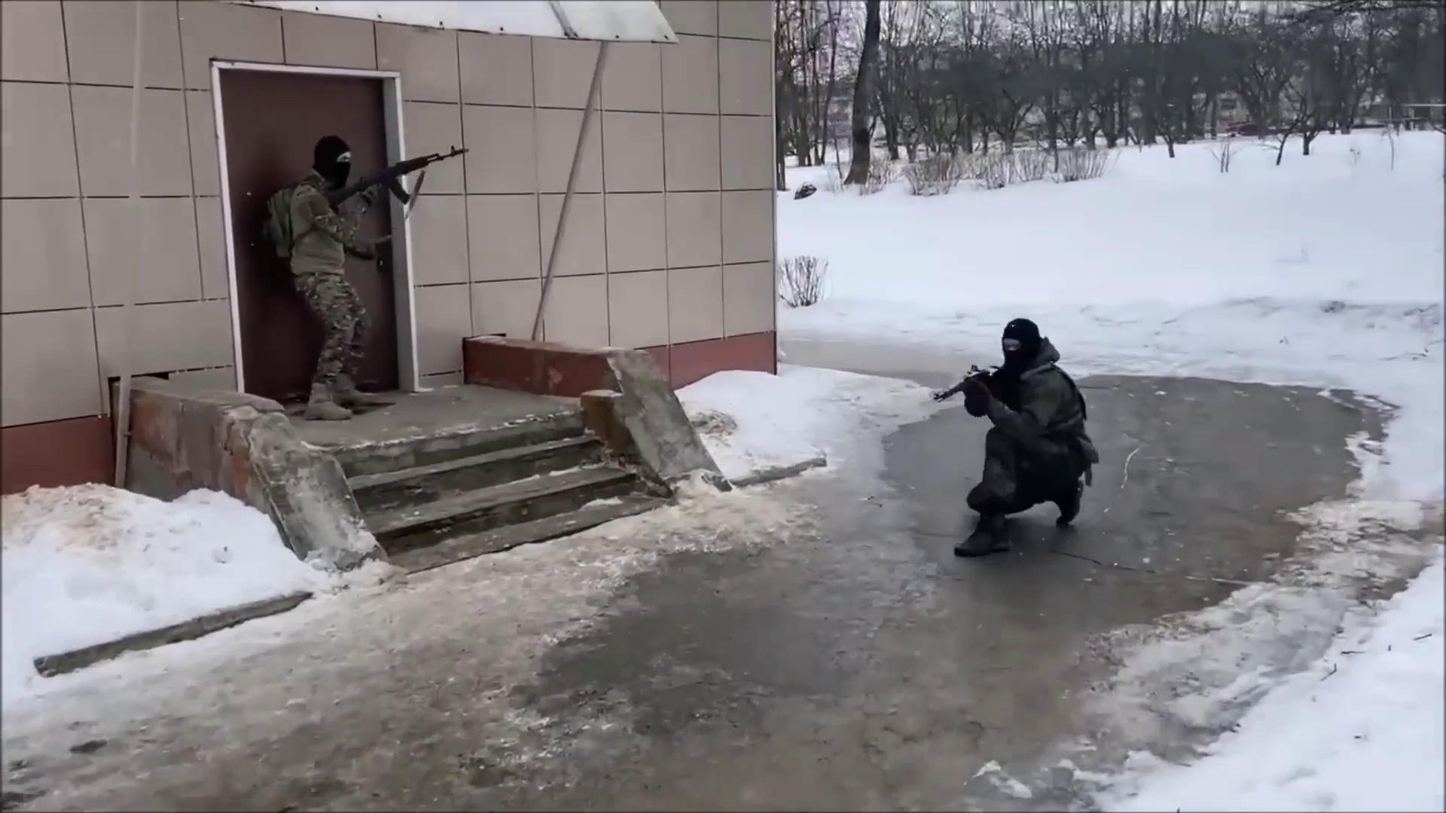person: (266, 133, 391, 422), (952, 317, 1100, 558)
rifle: (933, 365, 1002, 403)
